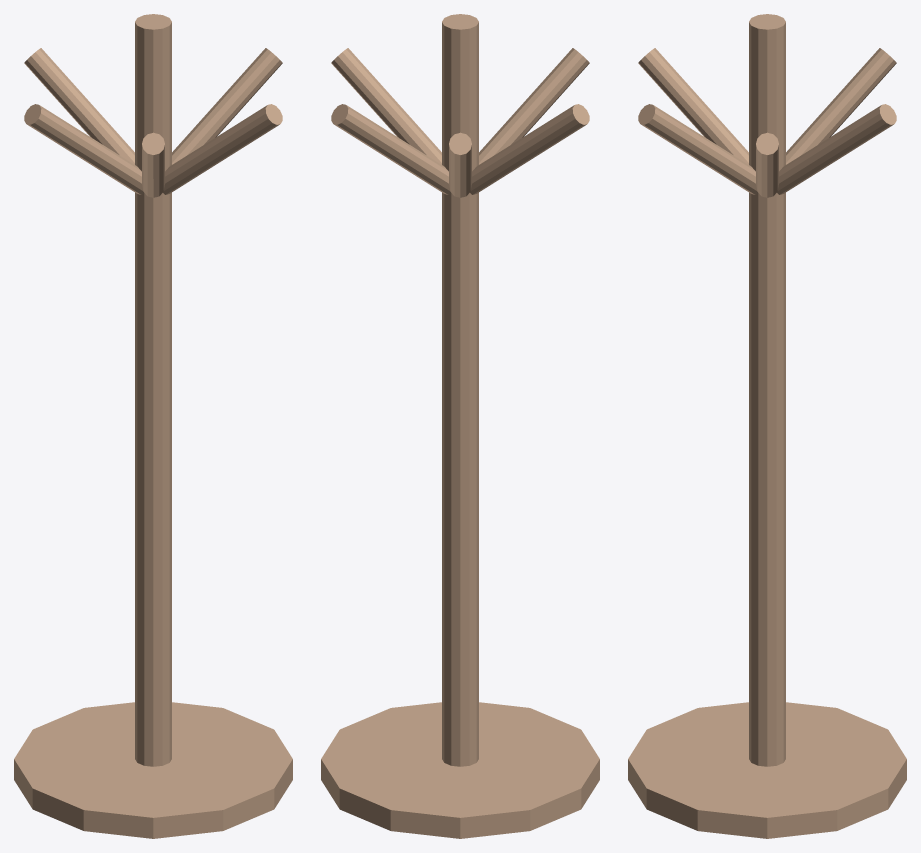
The model's file is coat_rack.glb.
3 renders of one model, left to right at view 1: azimuth 30°, elevation 25°; view 2: azimuth 150°, elevation 25°; view 3: azimuth 270°, elevation 25°, orthographic.
Visible parts, largest first — view 1: coat_rack_000, coat_rack_001, coat_rack_005, coat_rack_007, coat_rack_002, coat_rack_004, coat_rack_006; view 2: coat_rack_000, coat_rack_001, coat_rack_003, coat_rack_005, coat_rack_002, coat_rack_006, coat_rack_004; view 3: coat_rack_000, coat_rack_001, coat_rack_003, coat_rack_007, coat_rack_004, coat_rack_006, coat_rack_002.
Boxes of the visible parts, x1,y1,x2,y2 form: coat_rack_000: [14, 702, 292, 838]; coat_rack_001: [135, 14, 171, 766]; coat_rack_005: [24, 104, 143, 194]; coat_rack_007: [163, 104, 282, 194]; coat_rack_002: [172, 48, 282, 164]; coat_rack_004: [24, 48, 134, 164]; coat_rack_006: [142, 132, 164, 197]; coat_rack_000: [321, 702, 599, 838]; coat_rack_001: [442, 14, 478, 766]; coat_rack_003: [331, 104, 450, 194]; coat_rack_005: [470, 104, 589, 194]; coat_rack_002: [331, 48, 441, 164]; coat_rack_006: [479, 48, 589, 164]; coat_rack_004: [449, 132, 471, 197]; coat_rack_000: [628, 702, 906, 838]; coat_rack_001: [749, 14, 785, 766]; coat_rack_003: [777, 104, 896, 194]; coat_rack_007: [638, 104, 757, 194]; coat_rack_004: [786, 48, 896, 164]; coat_rack_006: [638, 48, 748, 164]; coat_rack_002: [756, 132, 778, 197].
Size of the model in its own units: 0.632 by 1.8 by 0.6.
